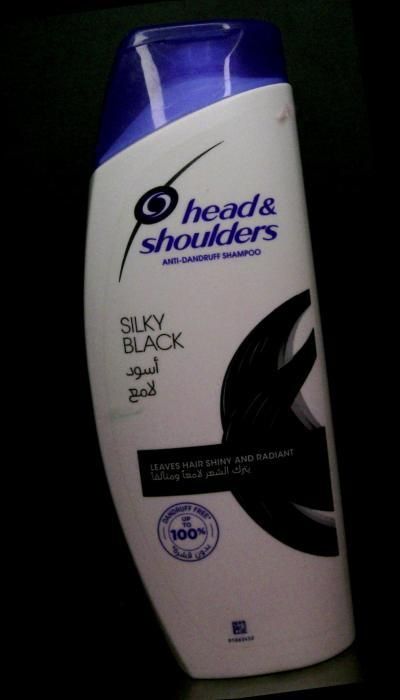tear_unacc: (93, 395, 150, 428), (258, 94, 296, 139)
